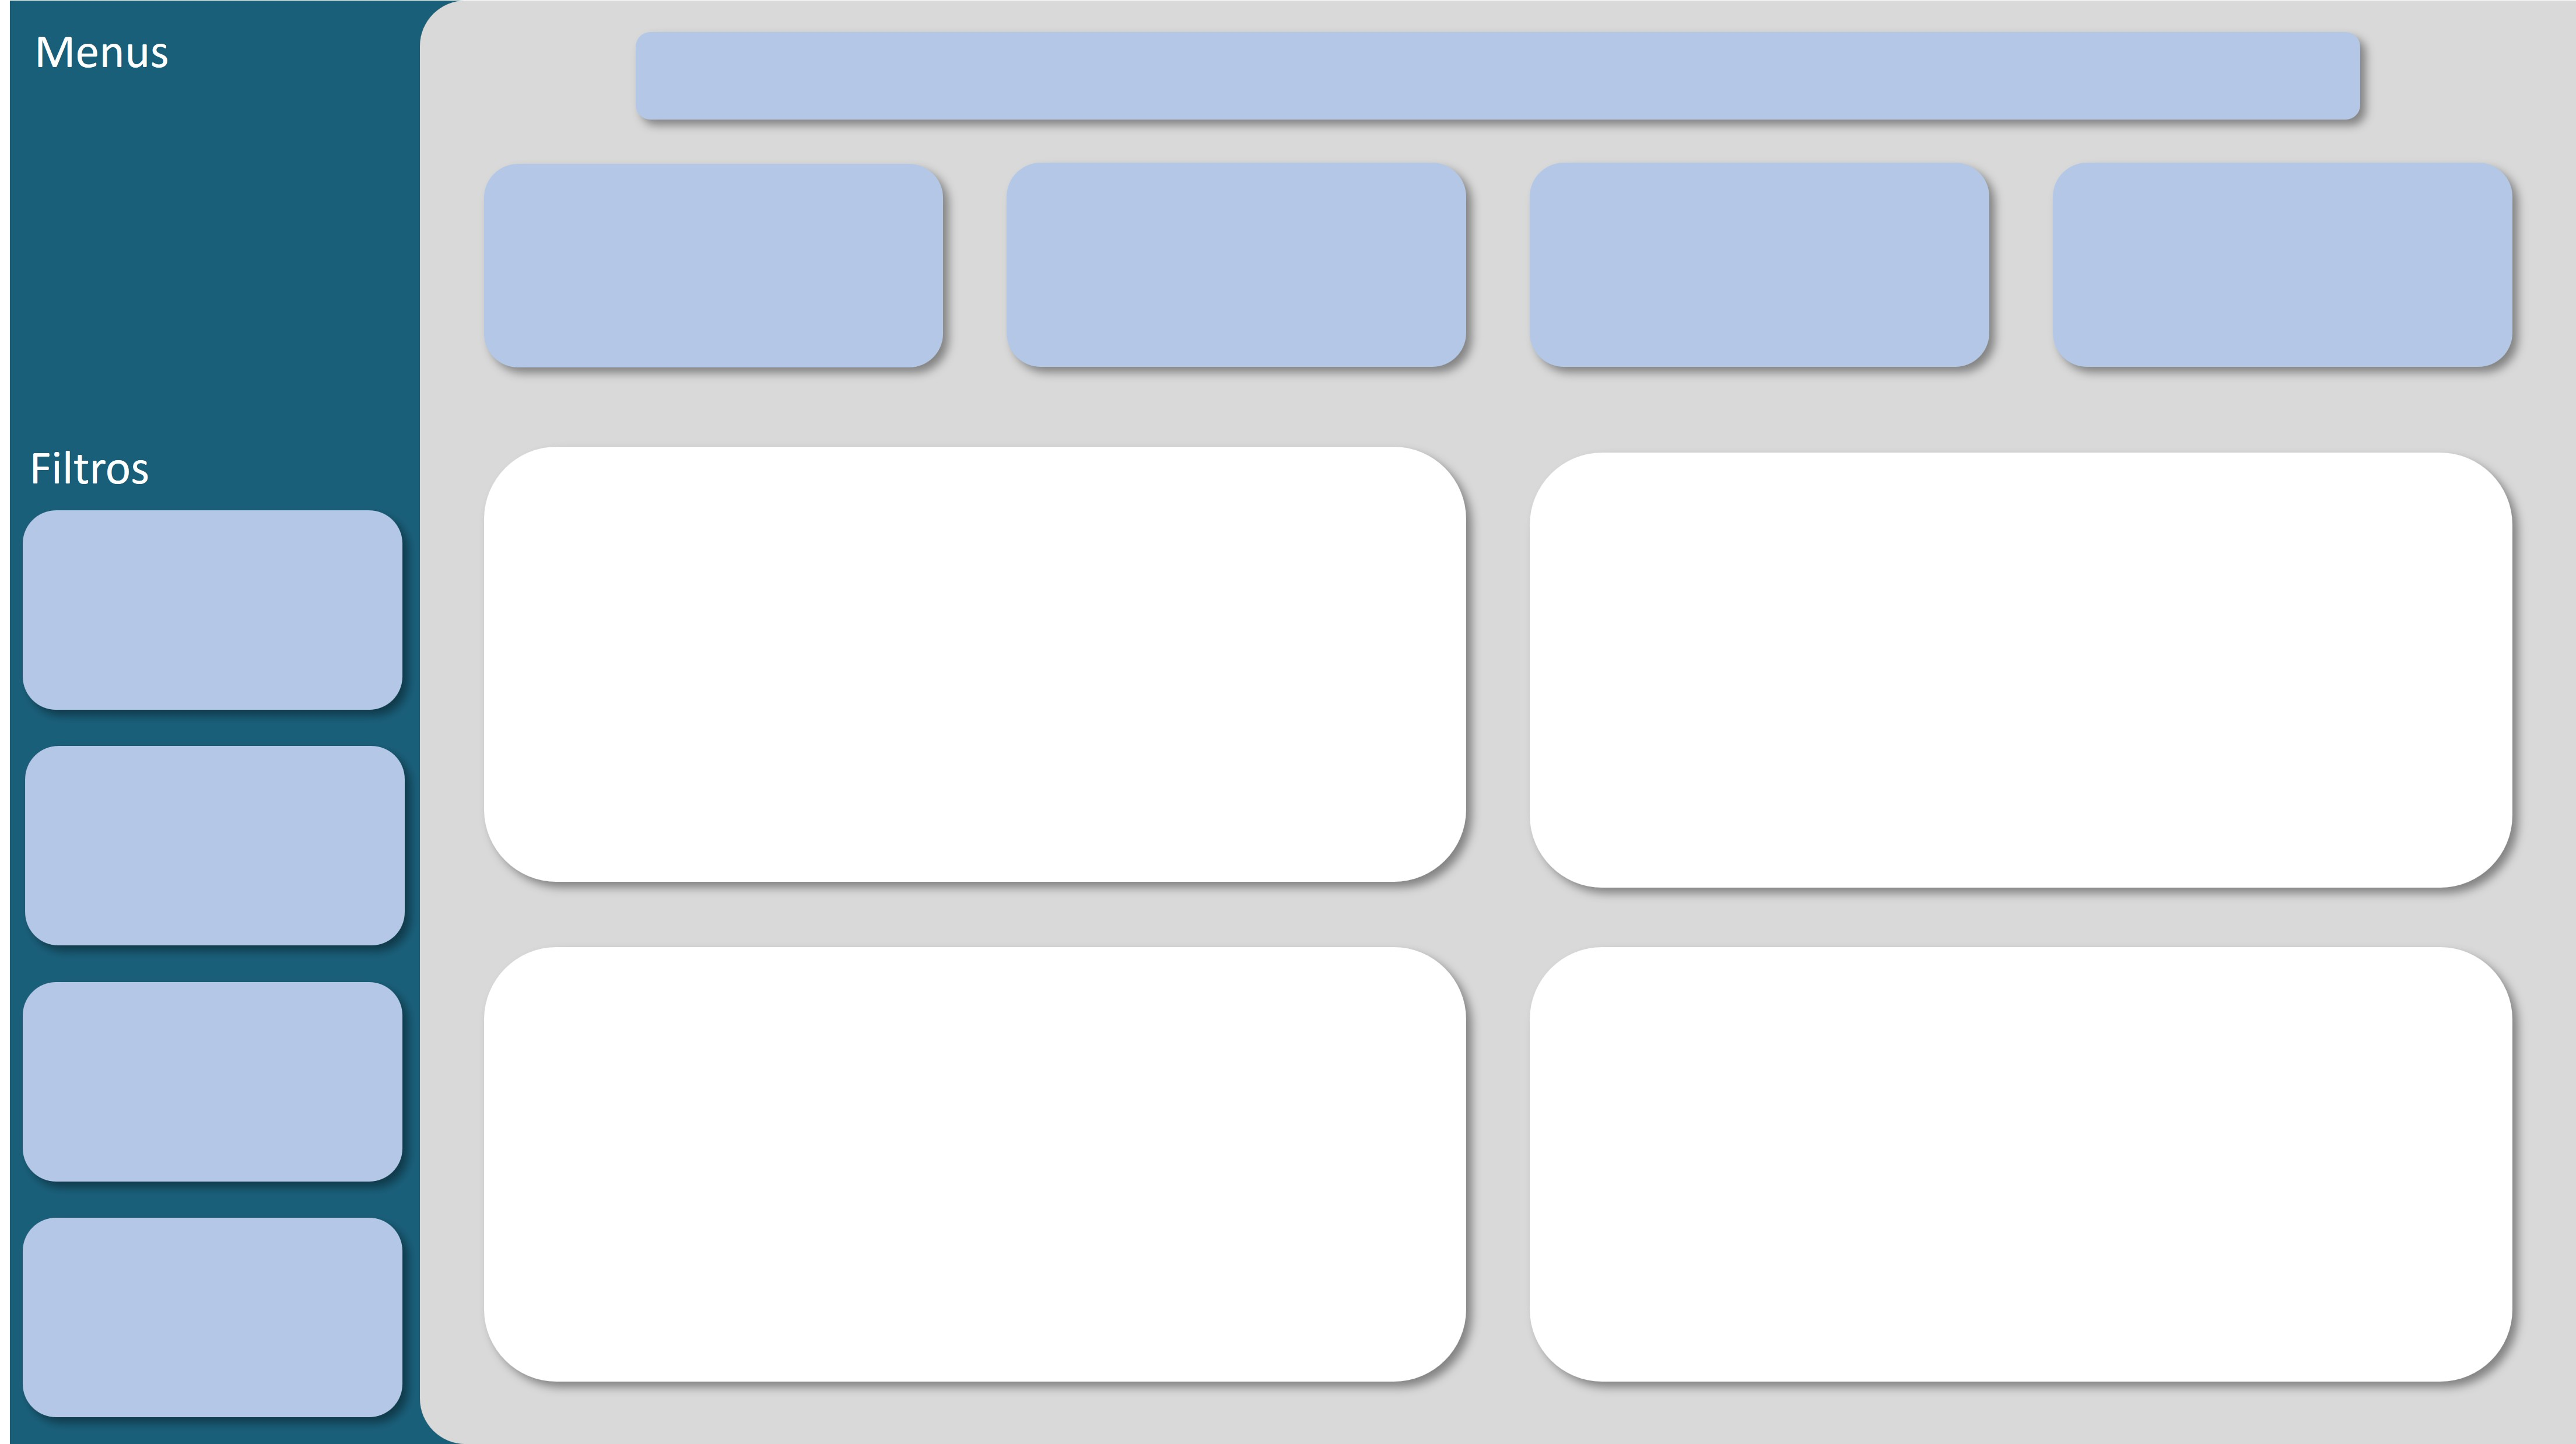

This screenshot's page, from the dashboard's own definition file:
{"tool":"powerbi","page":{"name":"Base","canvas":[1280,720],"ordinal":4},"visuals":[{"type":"barChart","title":"Taxa de Saída dos Clientes","fields":{"Category":["Customer-Churn-Records.Chruned"],"Y":["Customer-Churn-Records.Number of Customers"]},"box":[0,0,433.5,349.1],"z":0},{"type":"card","title":"Taxa de Saída","fields":{"Values":["Customer-Churn-Records.Churn Rate"]},"box":[433.3,0,206.7,115.6],"z":1000},{"type":"card","fields":{"Values":["Customer-Churn-Records.Number of Customers"]},"box":[0,348.9,226.7,107.8],"z":2000},{"type":"card","fields":{"Values":["Customer-Churn-Records.Number of Churned Customers"]},"box":[0,456.7,226.7,118.9],"z":3000},{"type":"slicer","title":"Localização","fields":{"Values":["Customer-Churn-Records.Geography"]},"box":[0,624.4,362.2,95.6],"z":4000},{"type":"slicer","title":"Chruned","fields":{"Values":["Customer-Churn-Records.Chruned"]},"box":[362.2,624.4,362.2,95.6],"z":5000},{"type":"slicer","title":"Tempo de Conta","fields":{"Values":["Customer-Churn-Records.Tenure"]},"box":[724.4,624.4,321.1,95.6],"z":6000},{"type":"card","fields":{"Values":["Avg(Customer-Churn-Records.Balance)"]},"box":[226.7,348.9,206.7,104.4],"z":7000},{"type":"slicer","title":"Faixa Etária","fields":{"Values":["Customer-Churn-Records.Age"]},"box":[724.4,502.2,321.1,95.6],"z":8000}]}

Visuals, with their boxes in screenshot pixels (x1, y1, x2, y2), scaled from the page's 1280x720 canvas onto the 2576x1444 screenshot:
"Taxa de Saída dos Clientes" barChart: <box>0,0,872,700</box>
"Taxa de Saída" card: <box>872,0,1288,232</box>
card - Customer-Churn-Records.Number of Customers: <box>0,700,456,916</box>
card - Customer-Churn-Records.Number of Churned Customers: <box>0,916,456,1154</box>
"Localização" slicer: <box>0,1252,729,1443</box>
"Chruned" slicer: <box>729,1252,1458,1443</box>
"Tempo de Conta" slicer: <box>1458,1252,2104,1443</box>
card - Avg(Customer-Churn-Records.Balance): <box>456,700,872,909</box>
"Faixa Etária" slicer: <box>1458,1007,2104,1199</box>
